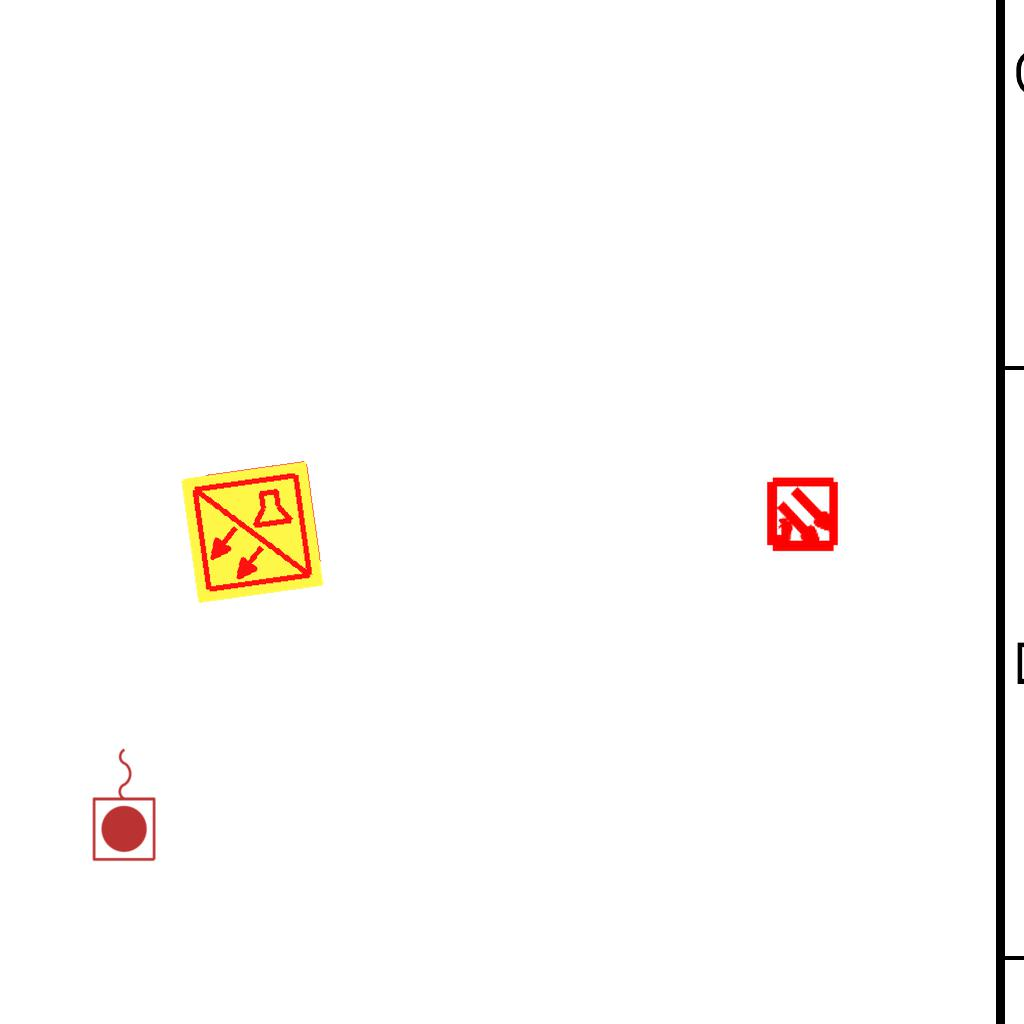OKW_Multisensormelder_(Kombination_optischer_Rauch-Kahlenmonoxid_Waerme-Melder): (177, 457, 327, 607)
OT_Multisensormelder_(Kombination_RMO_WMD): (746, 460, 859, 573)
Zugtaster: (89, 743, 161, 865)
